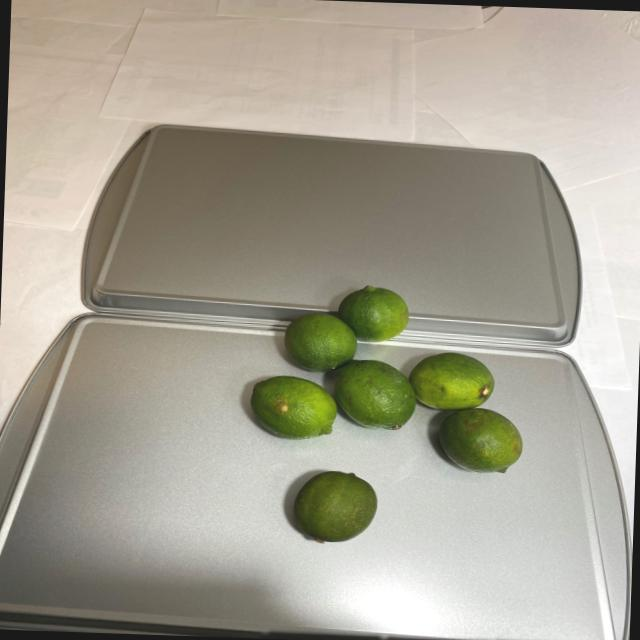lemon: (239, 280, 532, 552)
